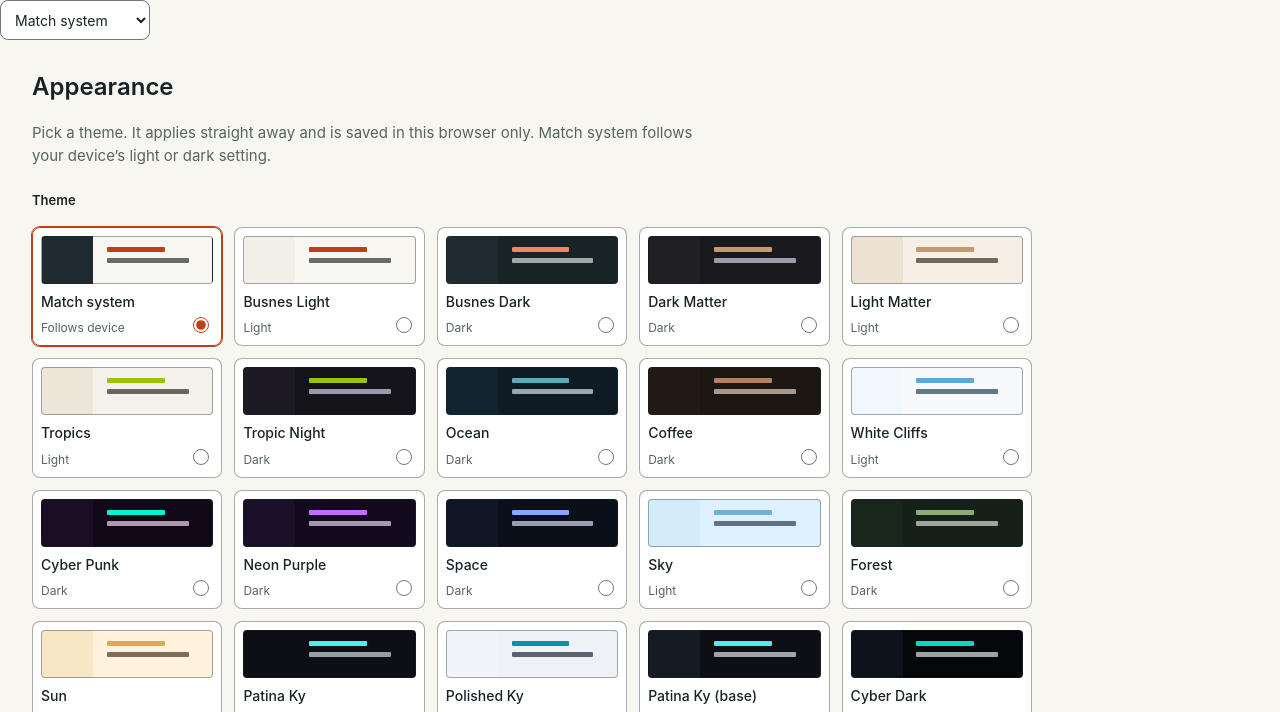
Appearance › applies a named palette inline and clears it again for Busnes
The width and height of the screenshot is (1280, 712).
expect the radio button labelled "Match system Follows device" is checked: met, box [193, 317, 209, 333]
Click the radio button labelled "Ocean Dark" at (606, 457), box [598, 449, 614, 465]
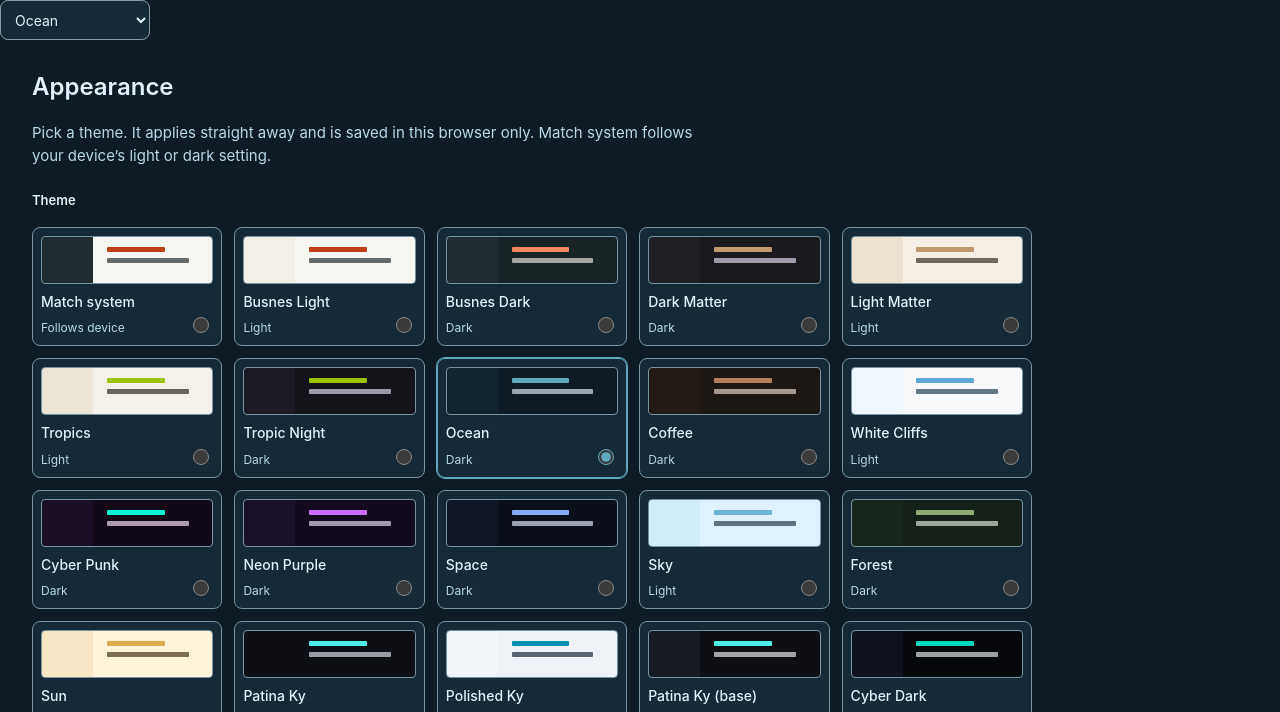
expect the dropdown named "Color theme" shows "Ocean": met
Select "Busnes Light" in the dropdown named "Color theme" at (75, 20), box [0, 0, 150, 40]
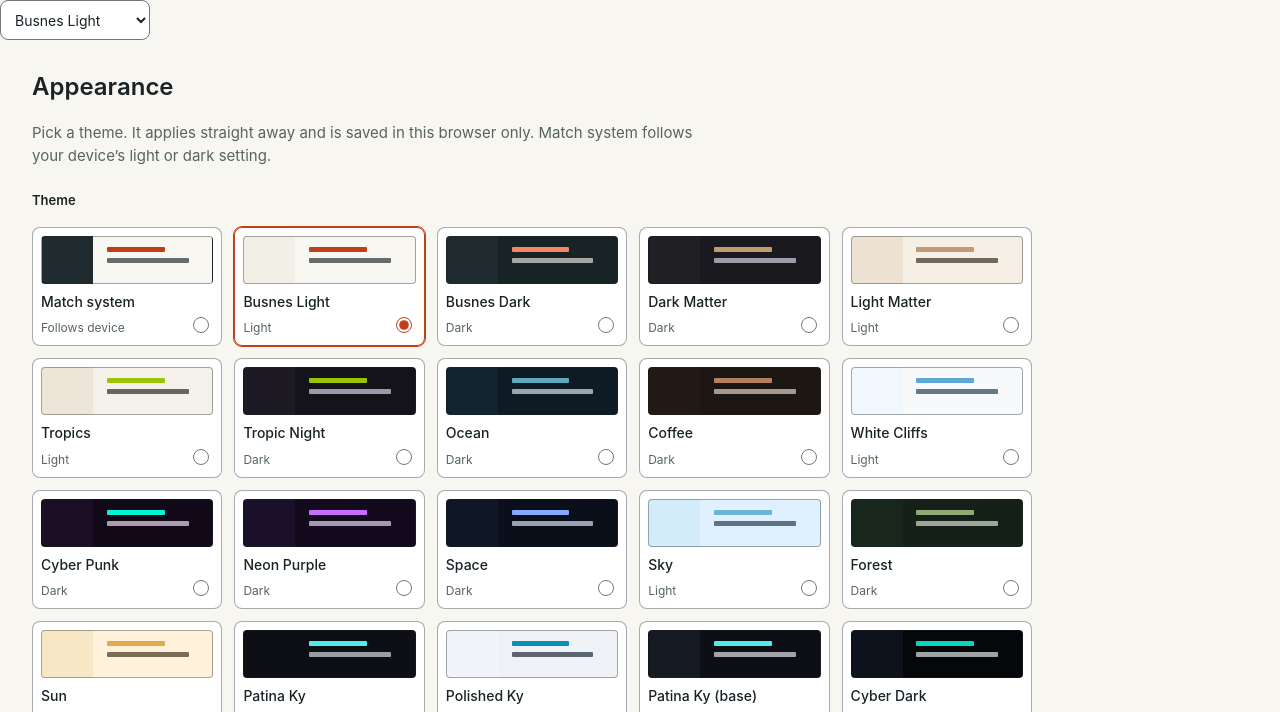
expect the radio button labelled "Busnes Light Light" is checked: met, box [396, 317, 412, 333]
